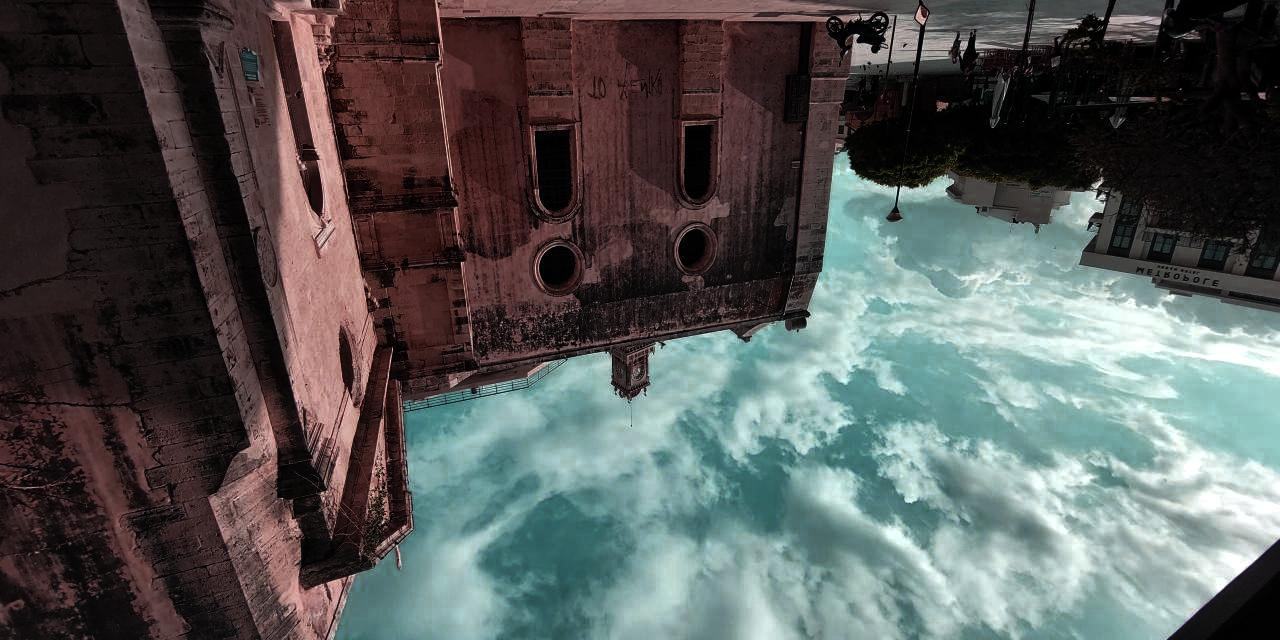Agia Aikaterini: (3, 20, 857, 640)
